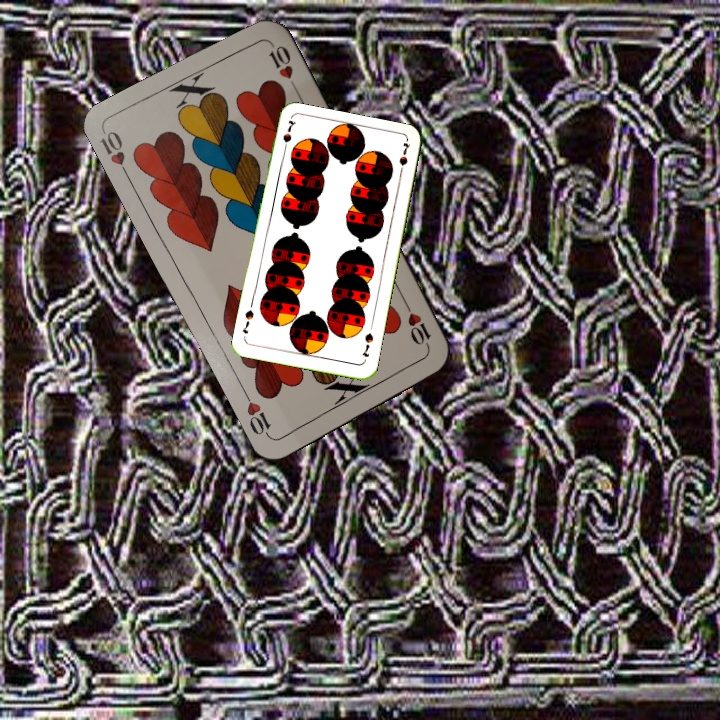H10: (97, 126, 133, 182), (400, 297, 433, 352)
S7: (279, 116, 298, 156), (358, 329, 376, 359)
